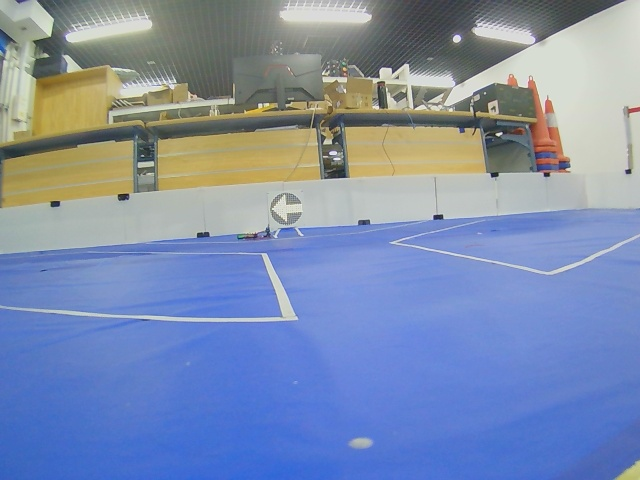left_yellow: (269, 193, 303, 226)
